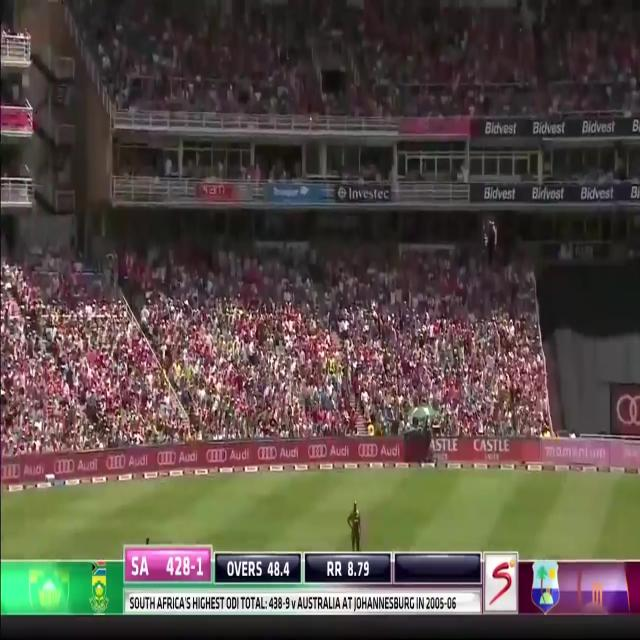Fielder: (346, 500, 362, 550)
